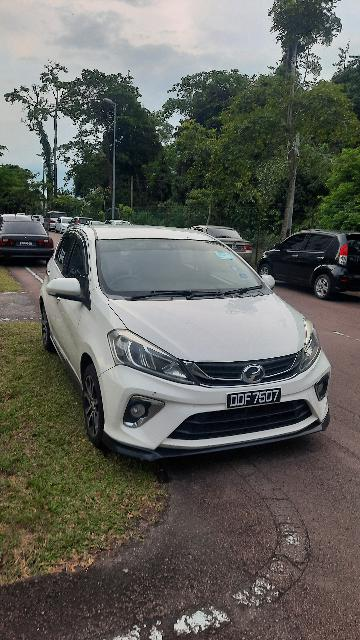License_Plate: (227, 388, 283, 411)
car: (33, 218, 332, 467)
